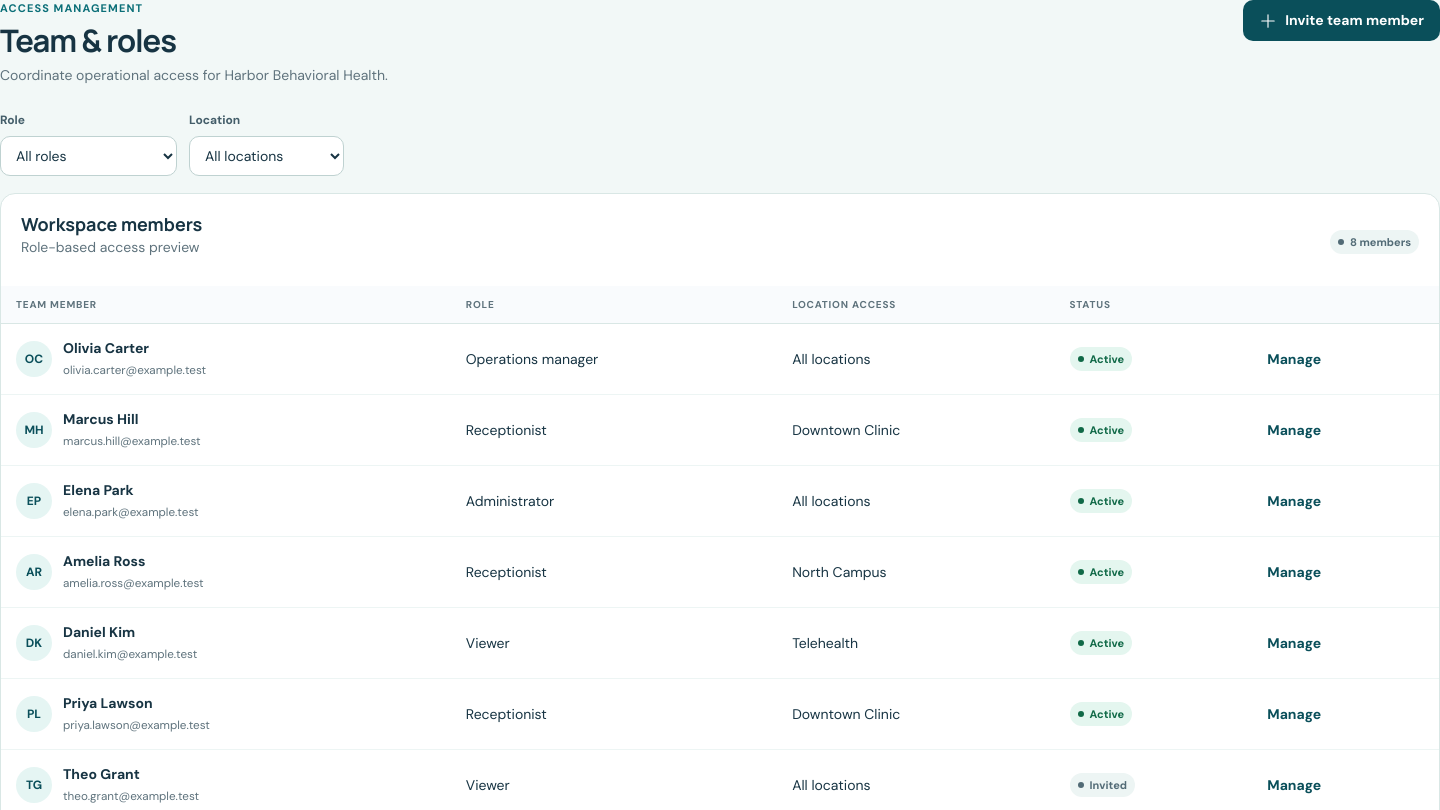
Scenario: labels member management as a demo-only action
Step 1. Click the button with aria-label "Manage Olivia Carter" → [1294, 359], box [1261, 348, 1327, 371]
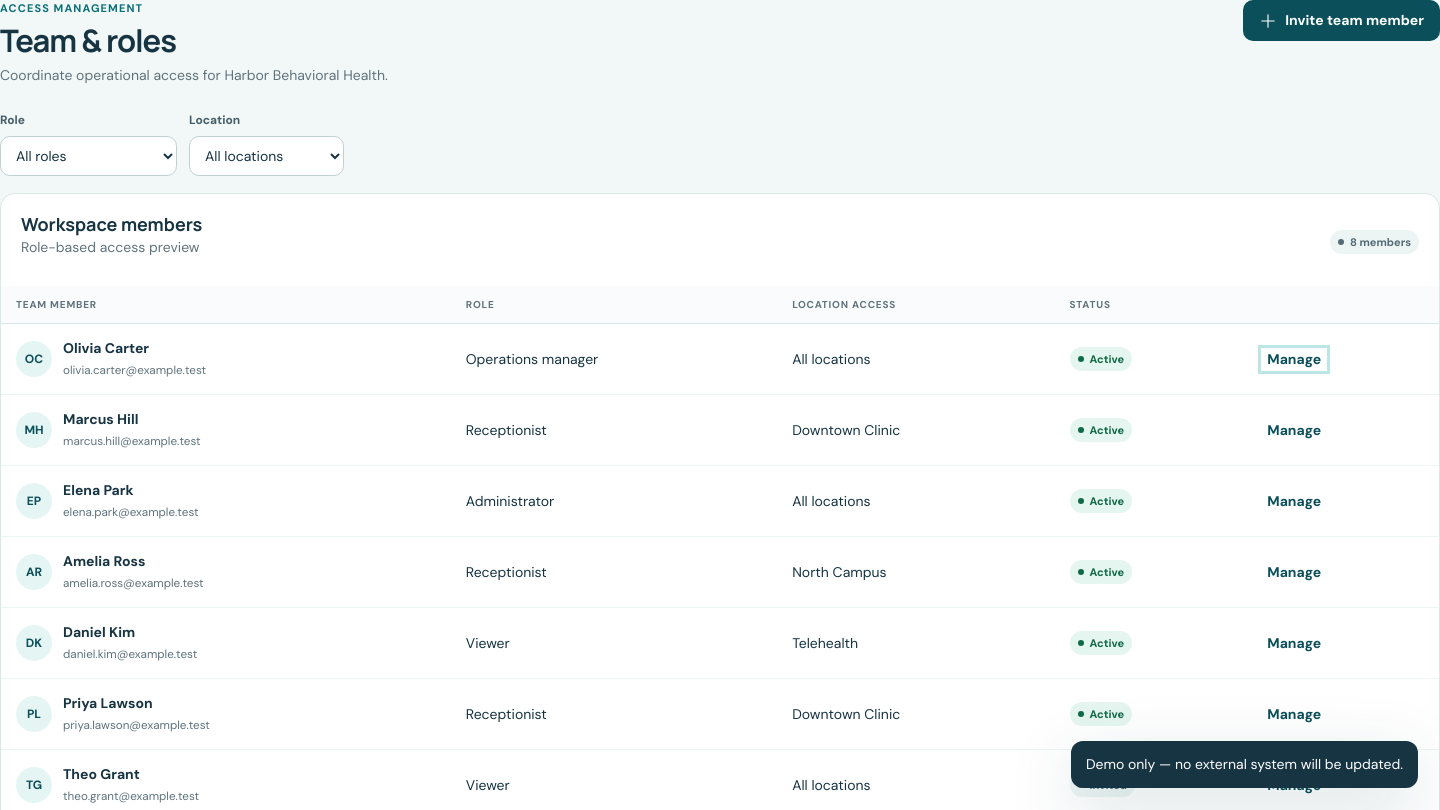
expect the text "Demo only — no external system will be updated." is shown: met, box [1071, 741, 1418, 788]
